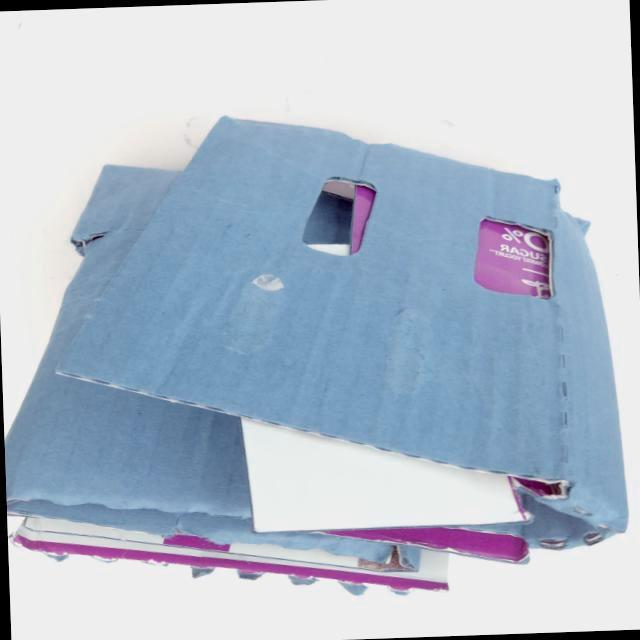cardboard: (0, 101, 640, 624)
